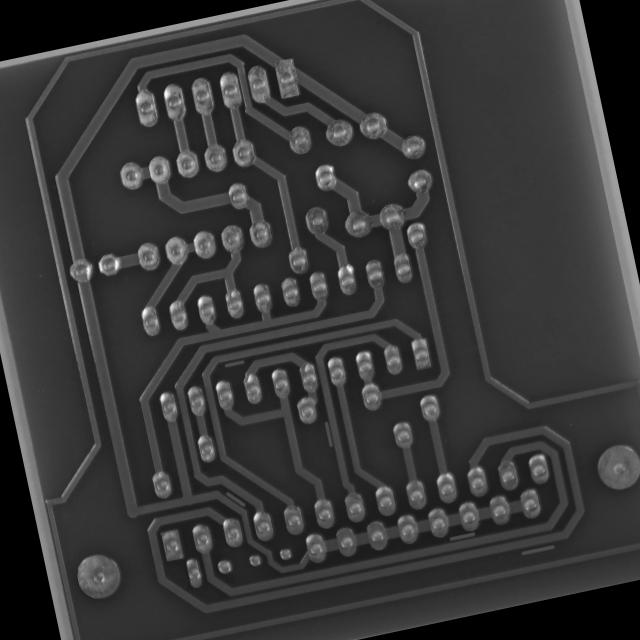spurious_copper: (516, 536, 560, 562), (221, 483, 251, 515), (444, 524, 479, 548), (317, 417, 337, 451), (218, 352, 248, 373)
